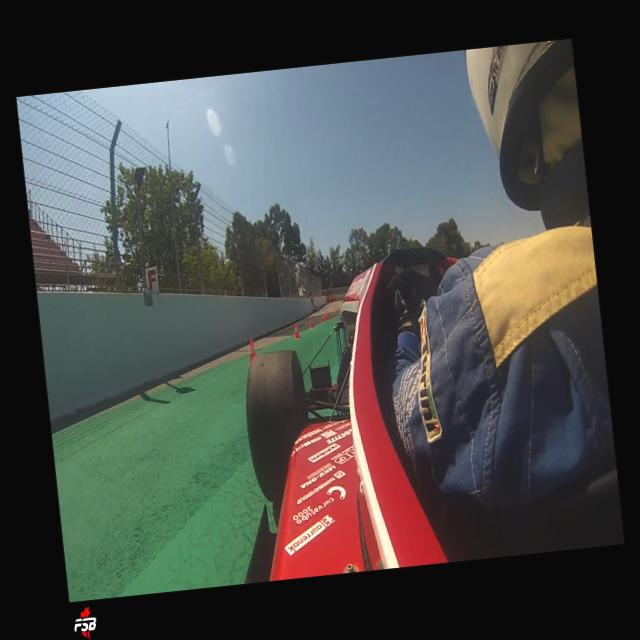orange_cone: (246, 338, 256, 365), (293, 322, 300, 338), (308, 316, 314, 328), (320, 312, 324, 322), (324, 312, 328, 320)
